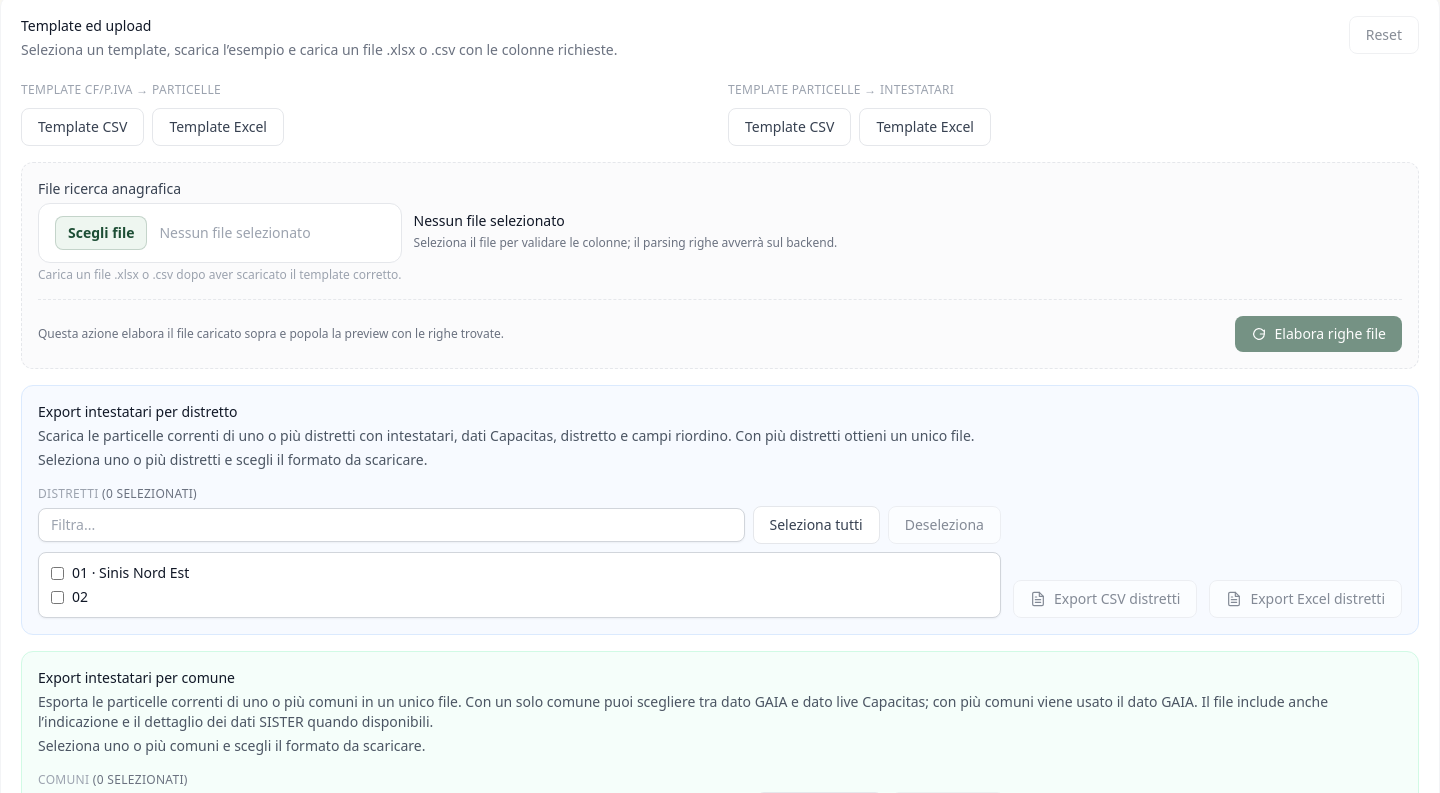
AnagraficaBulkPanel multi-scope export › polls a pending multi-district job until completion and downloads it
The image size is (1440, 793).
Click the checkbox labelled "01 · Sinis Nord Est": (58, 573) x1=51 y1=566 x2=64 y2=580
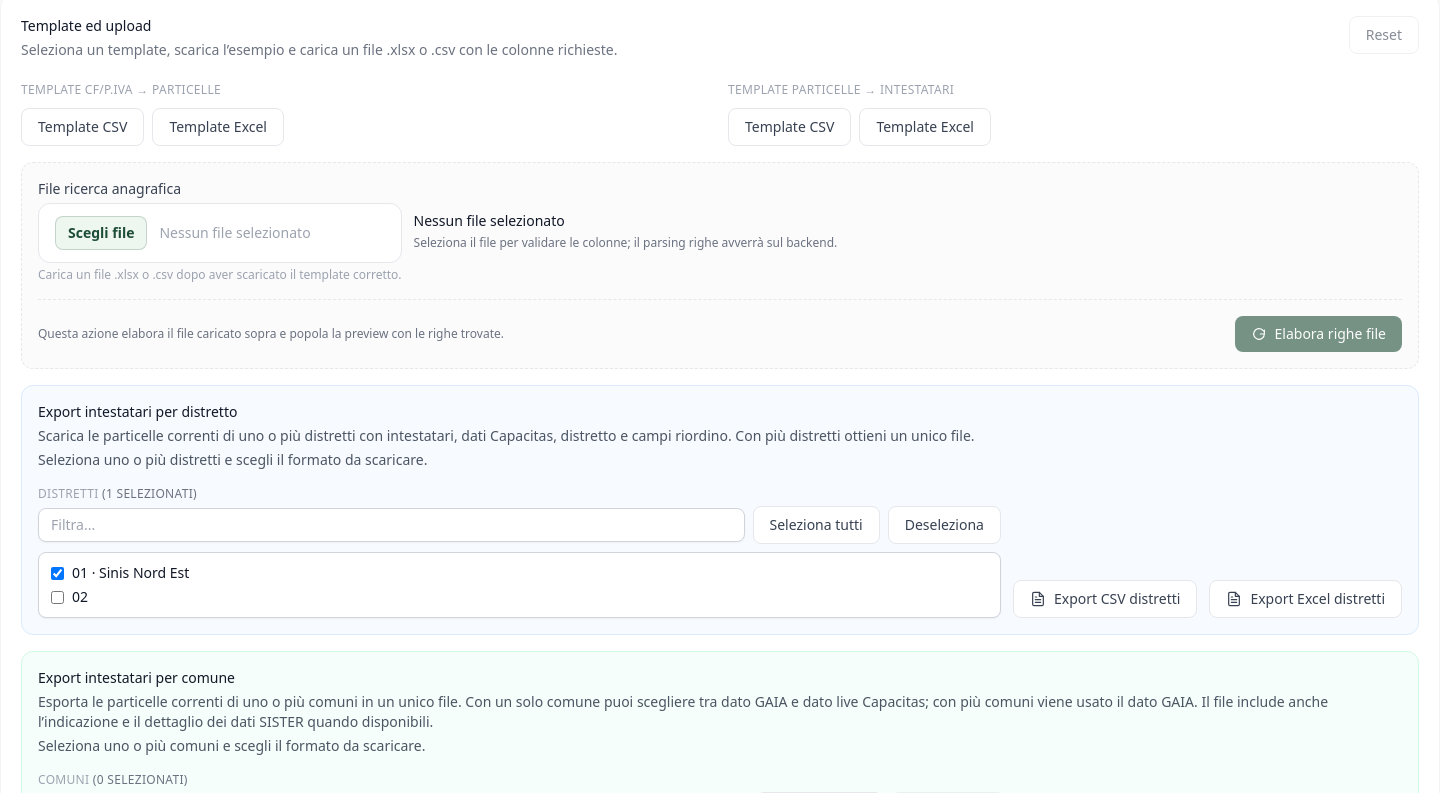
Click the checkbox labelled "02": (58, 597) x1=51 y1=590 x2=64 y2=604
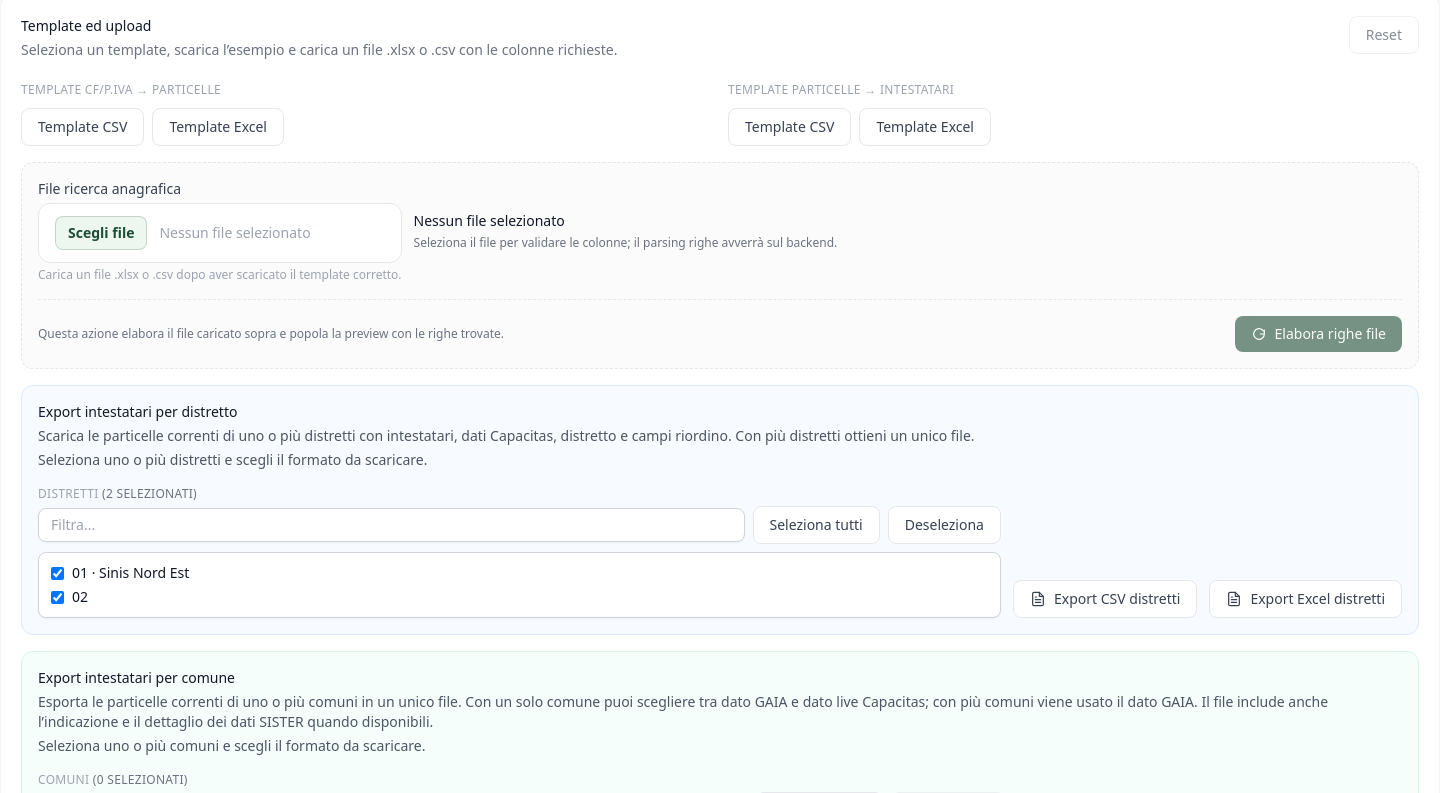
Click the button "Export Excel distretti": (1306, 599) x1=1209 y1=580 x2=1402 y2=618
(page scrolled)
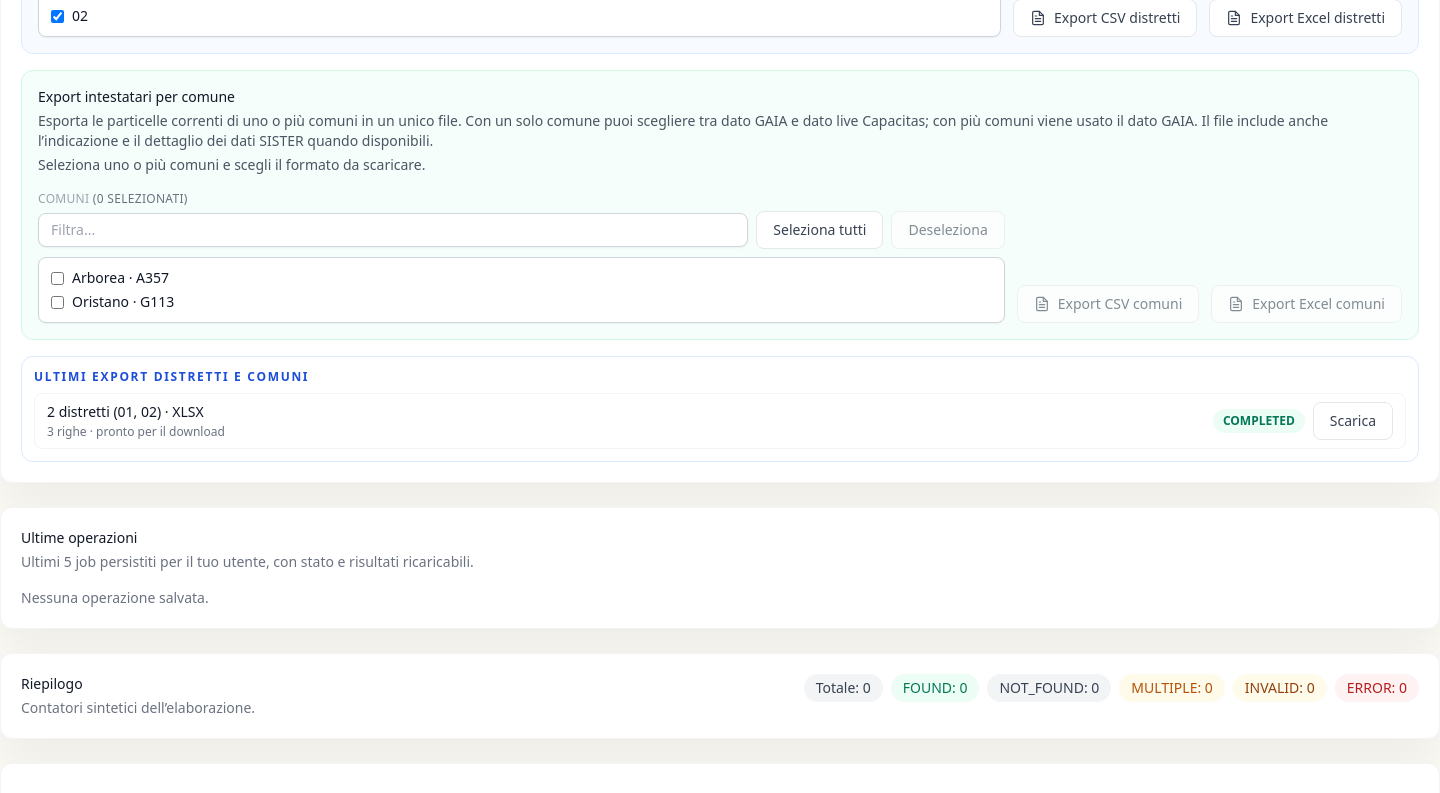
expect the text "2 distretti (01, 02) · XLSX" is shown: met, box x1=47 y1=402 x2=225 y2=422
